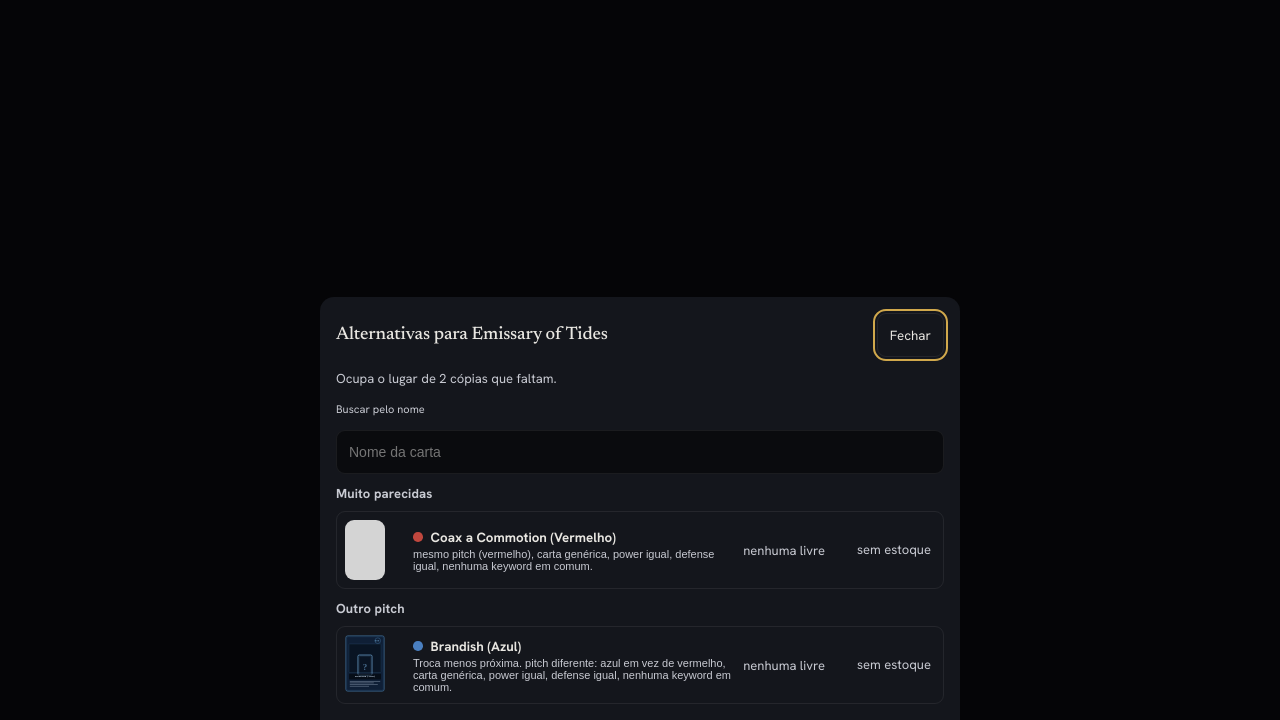
Test case: AlternativesSheet › picking › shows the localized 409 message: NOTHING_TO_REPLACE
expect the element with test id "alternatives-group-very_close" is shown: met, box [336,486,944,589]
Click the button with aria-label "Usar Coax a Commotion (Vermelho) no lugar": [625, 550] box [405,521,845,580]
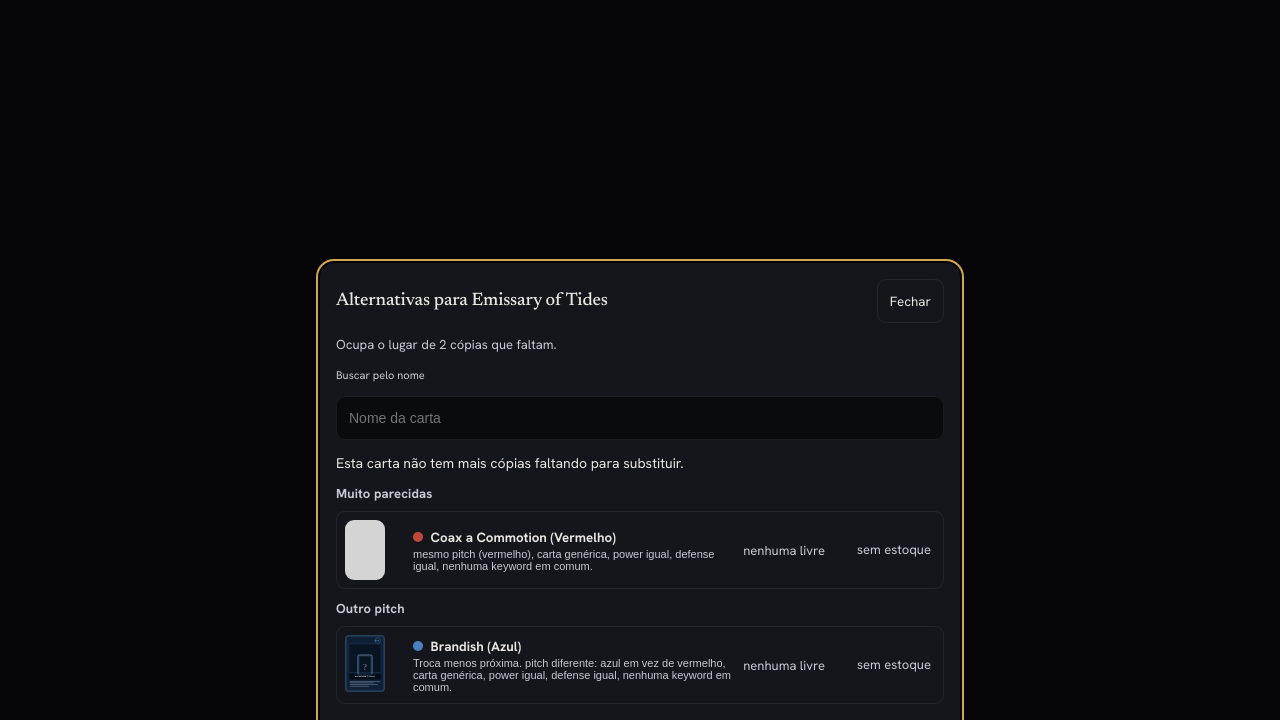
expect the message with test id "alternatives-pick-error" reads "Esta carta não tem mais cópias faltando para substituir.": met, box [336,454,684,472]
